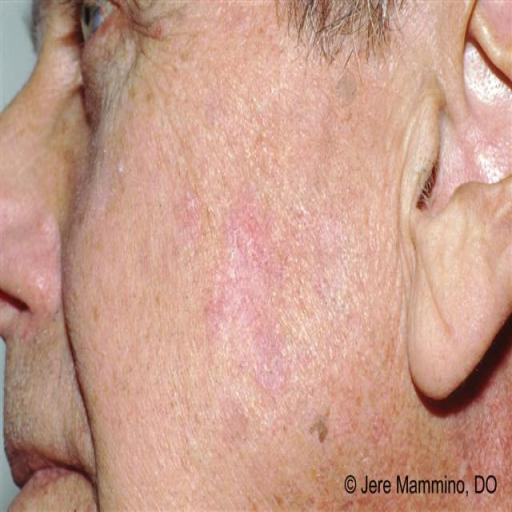Skin_Lesion: (238, 262, 302, 400), (450, 415, 502, 508), (223, 200, 258, 259), (206, 263, 230, 339), (174, 192, 205, 242), (311, 409, 333, 451), (336, 502, 358, 512)
